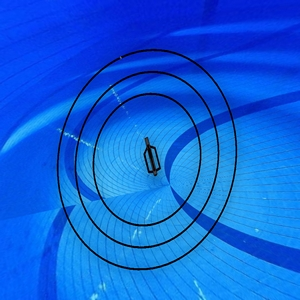circle: (55, 45, 240, 273)
submarine: (138, 136, 164, 179)
